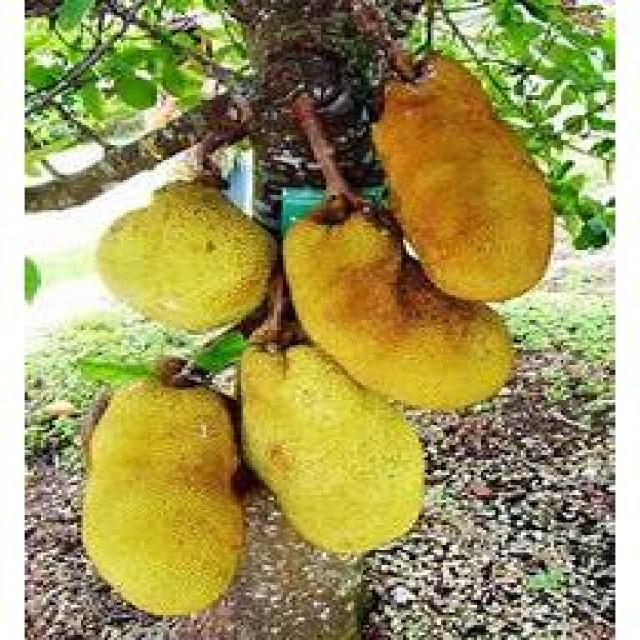Fruit: (191, 272, 452, 582), (336, 28, 582, 322), (262, 178, 538, 428), (49, 348, 280, 638), (80, 160, 289, 352)
